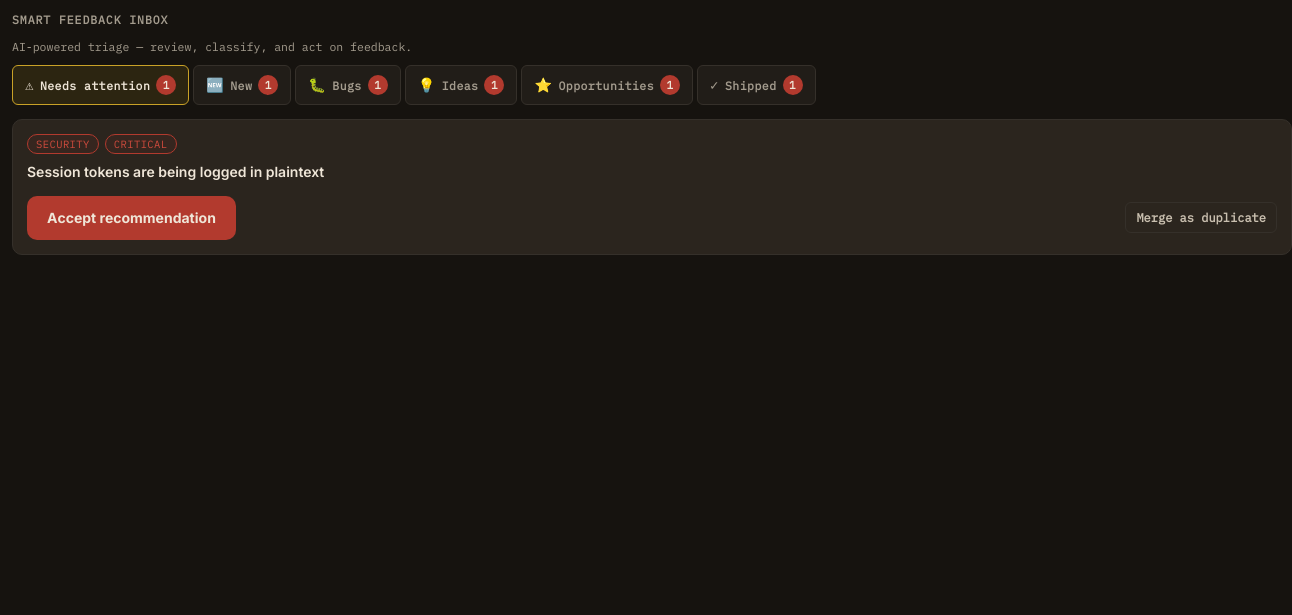
Scenario: SmartFeedbackInbox — progressive disclosure › shows original feedback when "Show more" is clicked
Click the tab "💡 Ideas 1".
click(461, 85)  # box [405,65,518,105]
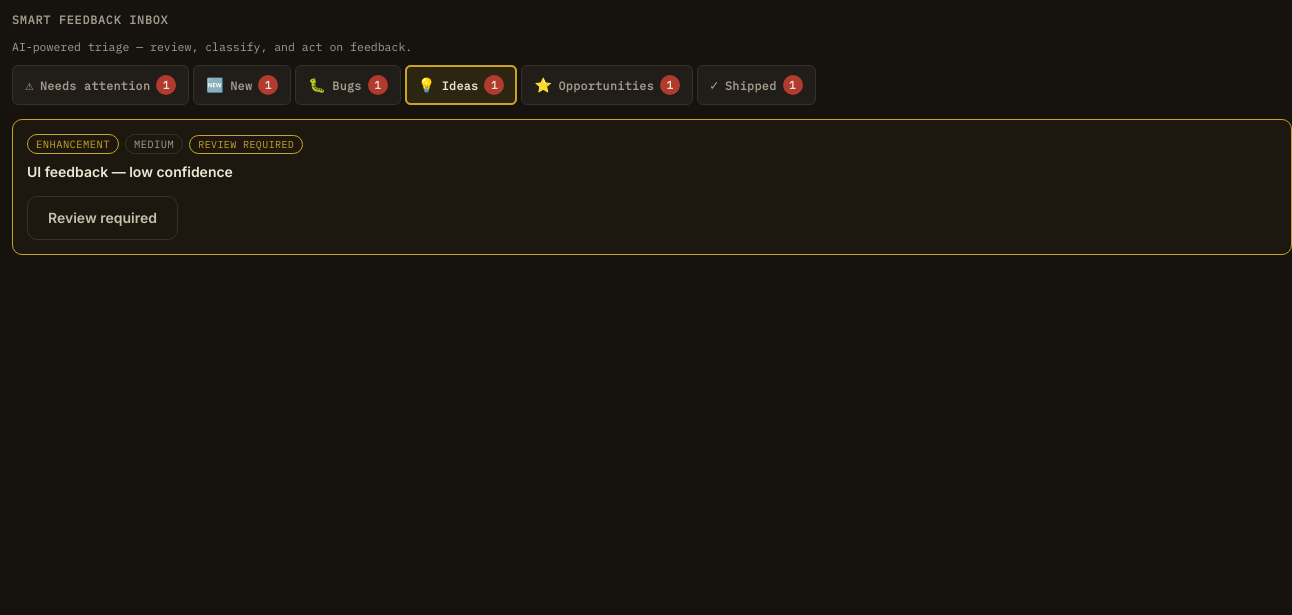
Now the text "UI feedback — low confidence" is shown, box [27,163,233,180]
Click the button "Review required".
click(102, 218)  # box [27,196,178,240]
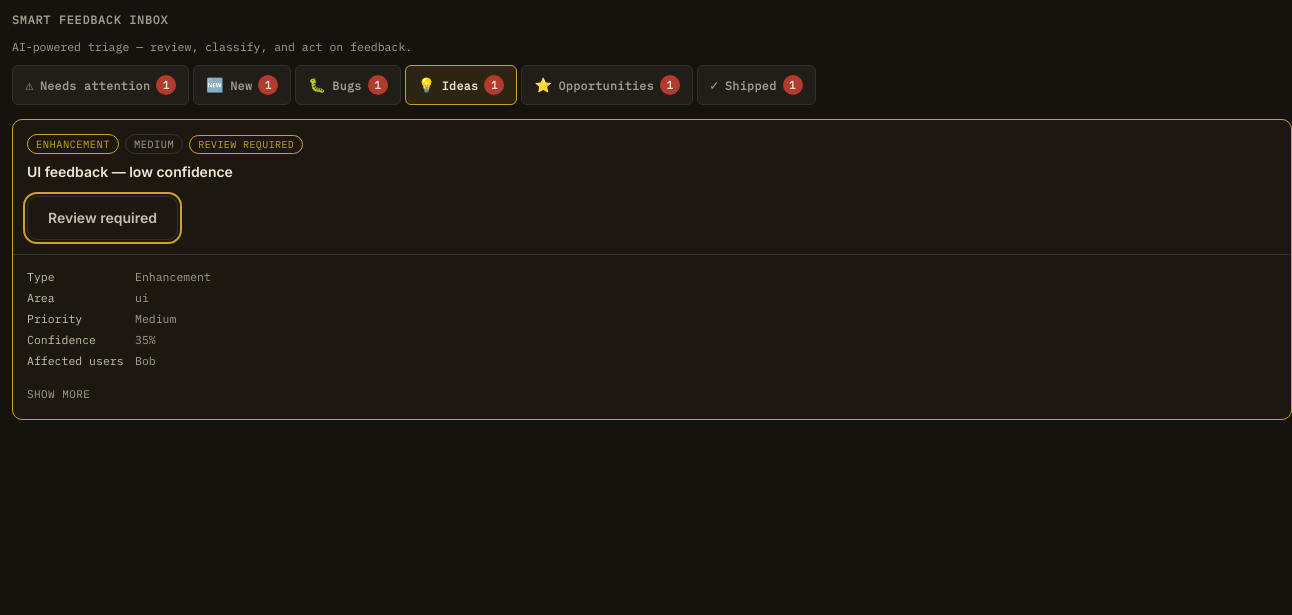
Click the button "Show more".
click(59, 394)  # box [27,383,90,405]
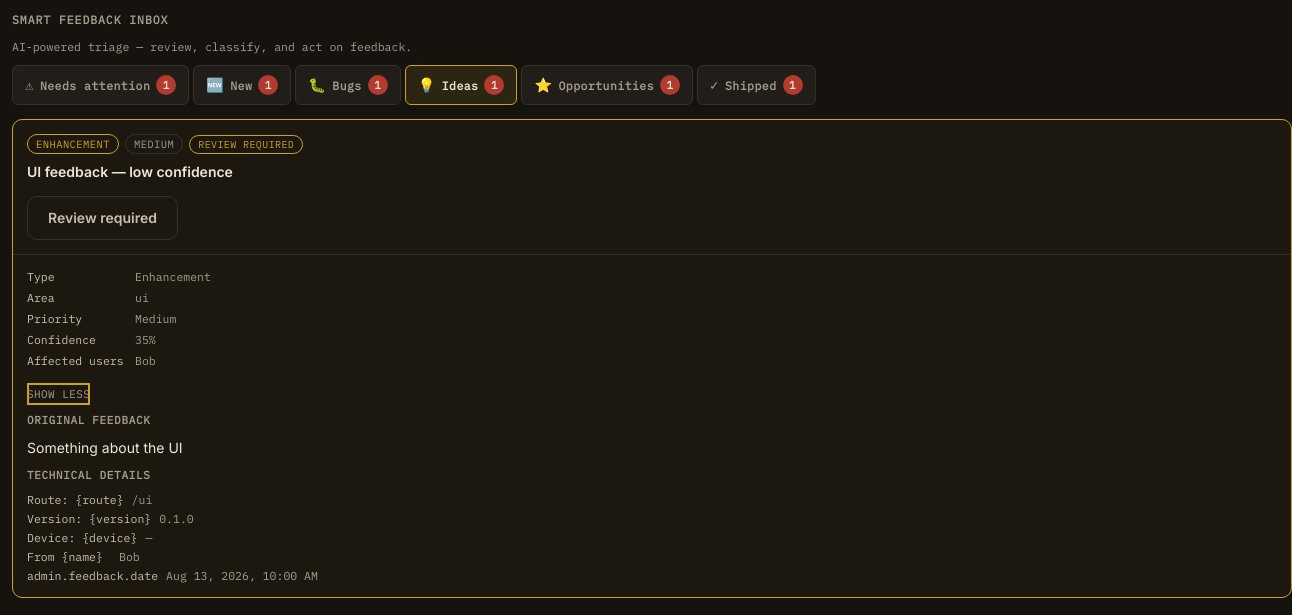
Now the heading "Original feedback" is shown, box [27,413,150,427]
Now the heading "Technical details" is shown, box [27,468,150,482]
